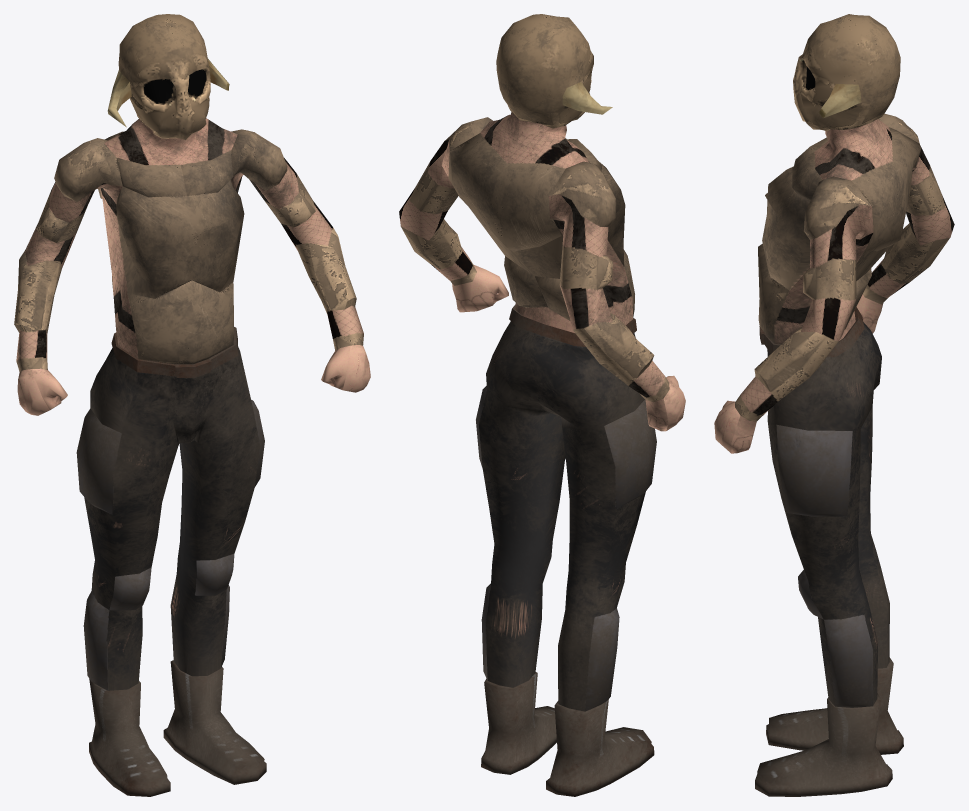
The model's file is Anim_ataque_d1_npc1.0013.obj.
3 renders of one model, left to right at view 1: azimuth 30°, elevation 25°; view 2: azimuth 150°, elevation 25°; view 3: azimuth 270°, elevation 25°, orthographic.
Visible parts, largest first — view 1: NPC2; view 2: NPC2; view 3: NPC2.
Part boxes in pixels (bbox=[...]): NPC2: bbox=[14, 14, 370, 796]; NPC2: bbox=[399, 14, 685, 796]; NPC2: bbox=[714, 14, 954, 796].
Size of the model in its own units: 4 by 9.62 by 2.8.
